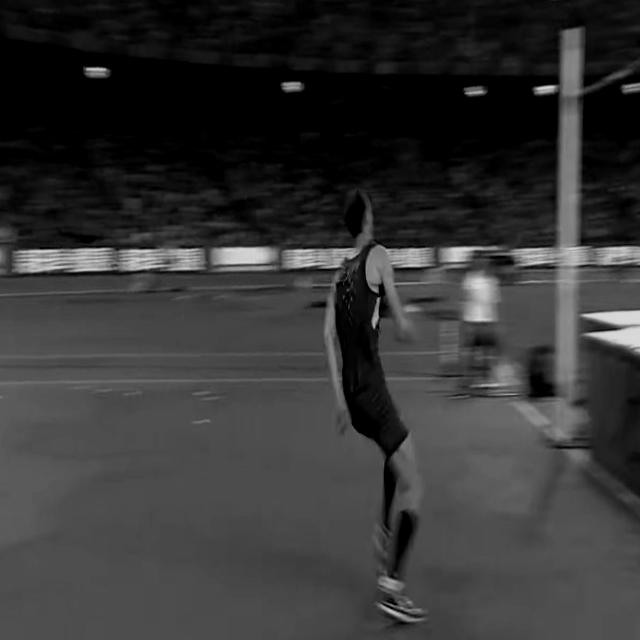run: (324, 186, 427, 624)
